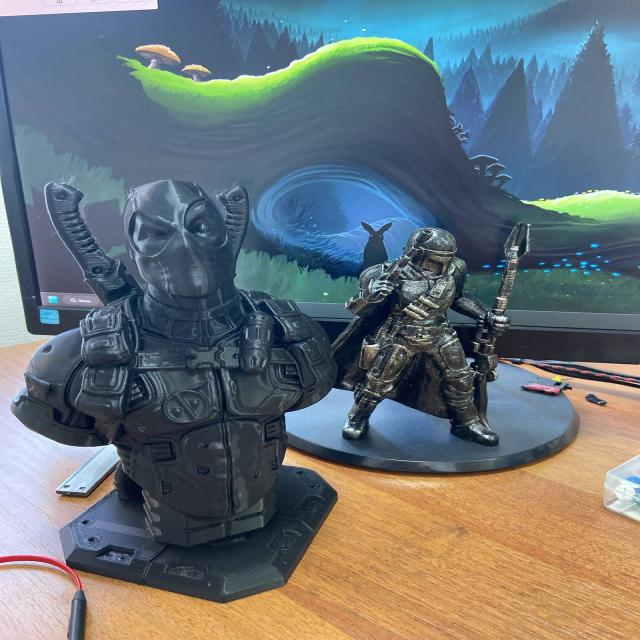Without deffect: (25, 155, 578, 600)
